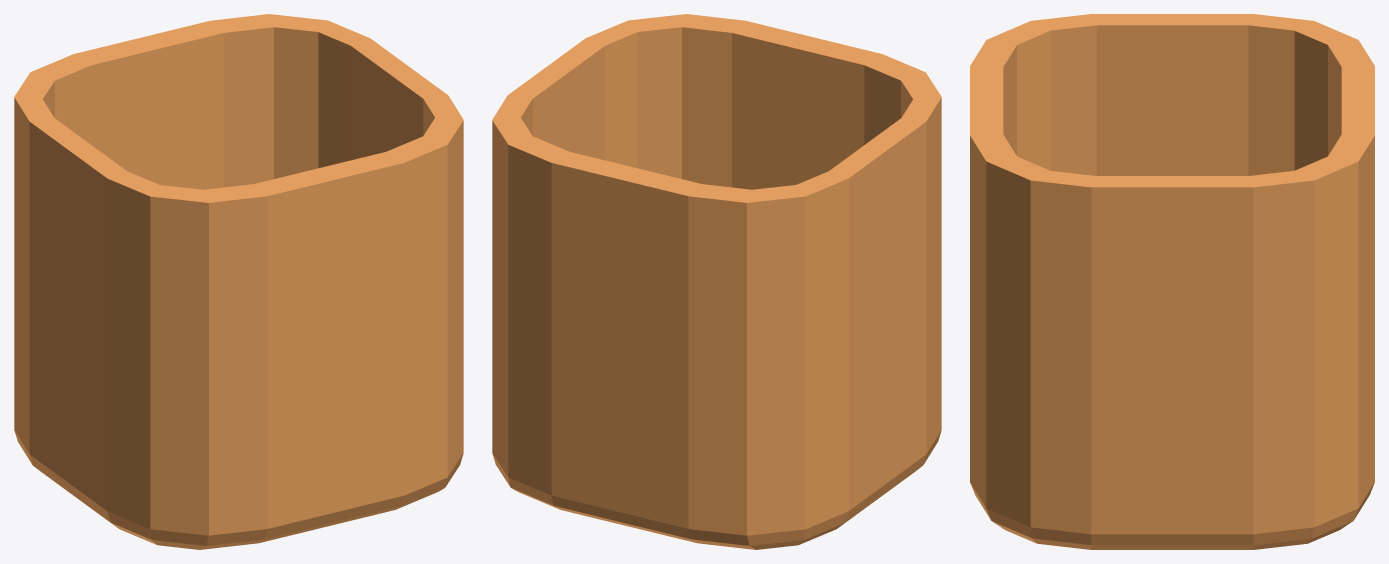
The model's file is basket.fbx.
3 views of the same model, side by side, from view 1: azimuth 30°, elevation 25°; view 2: azimuth 150°, elevation 25°; view 3: azimuth 270°, elevation 25° (orthographic). The views are drawn at different scales.
Visible parts, largest first — view 1: Cube.050; view 2: Cube.050; view 3: Cube.050.
Boxes of the visible parts, bbox=[...] form: Cube.050: bbox=[14, 14, 463, 549]; Cube.050: bbox=[492, 14, 941, 549]; Cube.050: bbox=[970, 14, 1374, 549].
Size of the model in its own units: 200 by 200 by 197.
